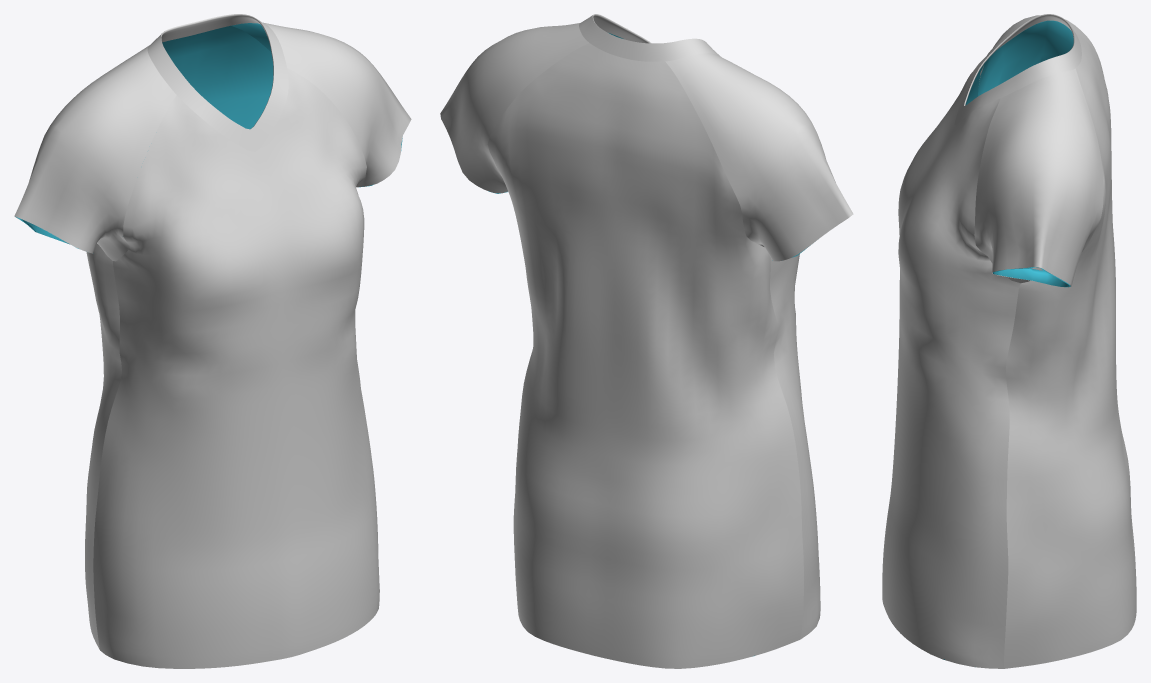
3 renders of one model, left to right at view 1: azimuth 30°, elevation 25°; view 2: azimuth 150°, elevation 25°; view 3: azimuth 270°, elevation 25°, orthographic. The views are drawn at different scales.
Parts seen in each view (by area): view 1: 7D7S2X; view 2: 7D7S2X; view 3: 7D7S2X.
Part boxes in pixels (x1=…): 7D7S2X: x1=14, y1=14, x2=411, y2=668; 7D7S2X: x1=440, y1=14, x2=853, y2=668; 7D7S2X: x1=882, y1=14, x2=1136, y2=668.
Size of the model in its own units: 0.7078 by 0.9783 by 0.3958.
